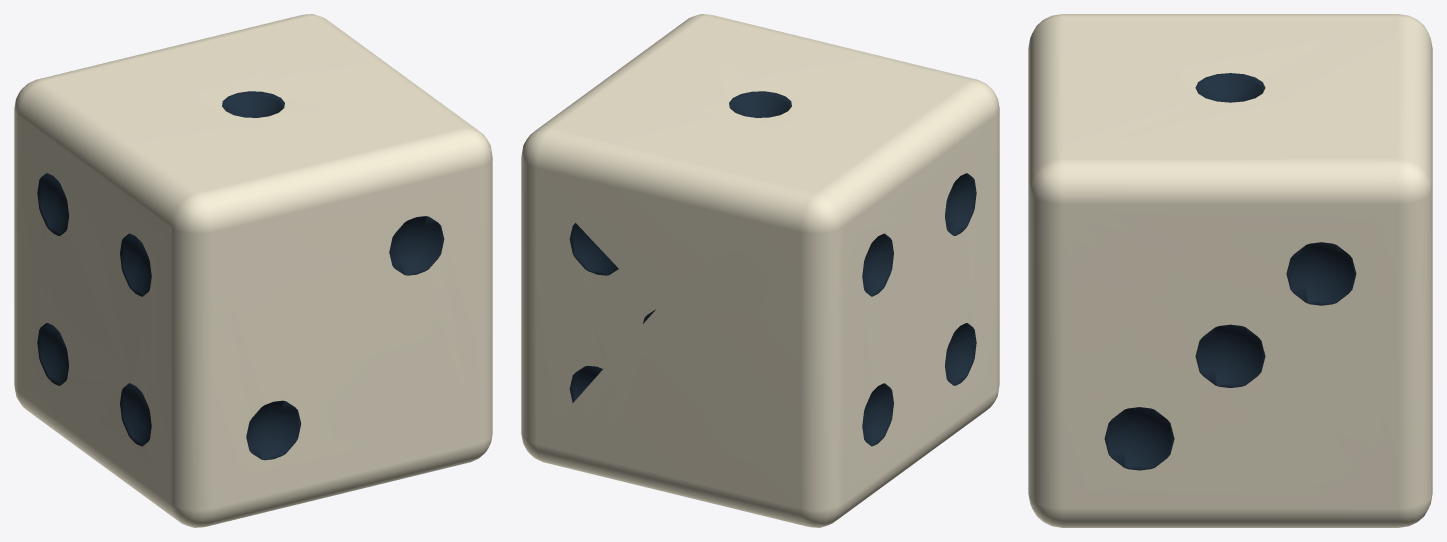
The model's file is Malapoly_Die.fbx.
The picture shows the model from 3 angles, left to right: view 1: azimuth 30°, elevation 25°; view 2: azimuth 150°, elevation 25°; view 3: azimuth 270°, elevation 25°; orthographic projection. The views are drawn at different scales.
Parts seen in each view (by area): view 1: Rounded_Die; view 2: Rounded_Die; view 3: Rounded_Die.
Boxes of the visible parts, x1,y1,x2,y2 form: Rounded_Die: [14, 14, 492, 527]; Rounded_Die: [521, 14, 999, 527]; Rounded_Die: [1028, 14, 1432, 527].
Size of the model in its own units: 1 by 1 by 1.
